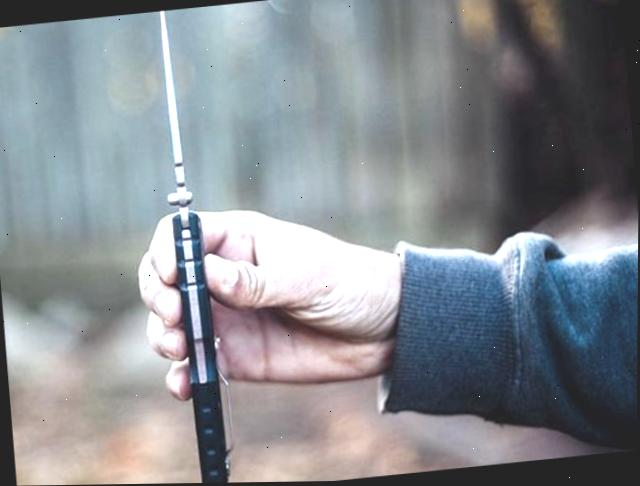pocket-knife: (106, 7, 245, 485)
